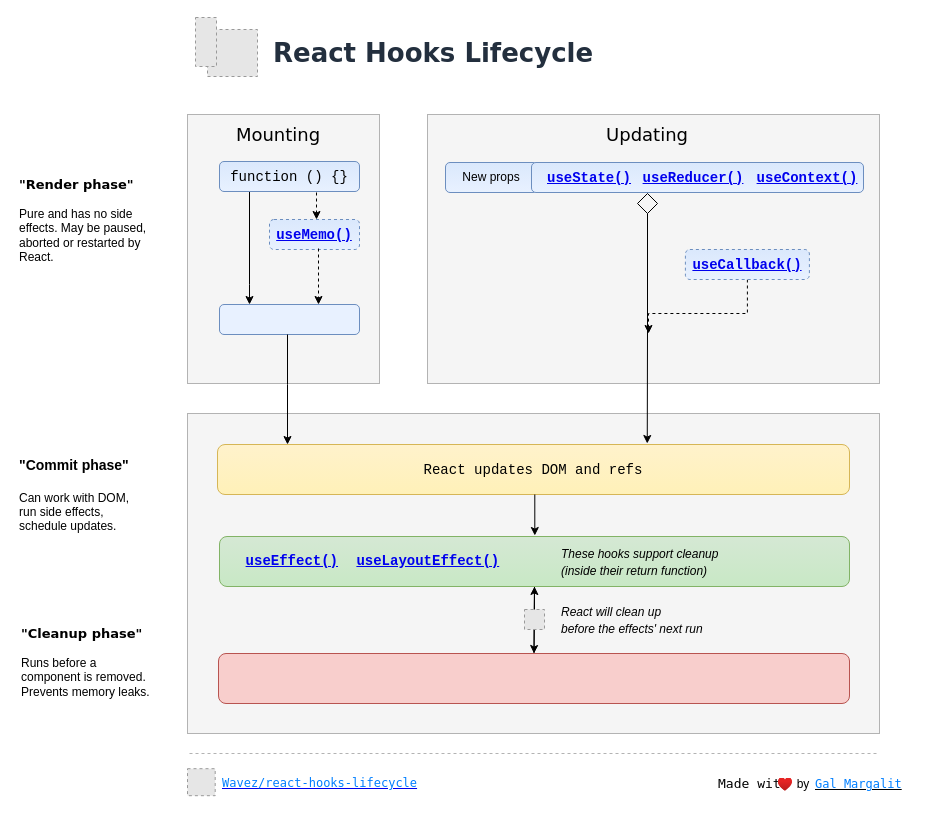
The diagram is 932 pixels wide and 814 high, and some of its shapes have lost their labels. Grey dashed boxes stand in for pictures. Here are the shapes that lost their labels. From the top down, the box of each, then its label:
(218, 304, 360, 334): return ()
(218, 652, 850, 704): React cleans up effects
